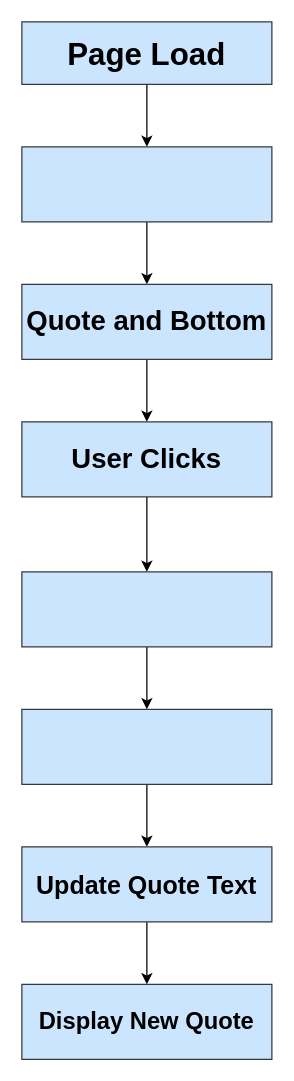
The diagram is 294 pixels wide and 1081 high, and some of its shapes have lost their labels. The box of each missing label's shape, as (x1, y1, x2, y2) in pixels:
Display Initial: (21, 146, 272, 222)
New Quote Button: (21, 571, 272, 647)
Quotes Array: (21, 708, 272, 784)
